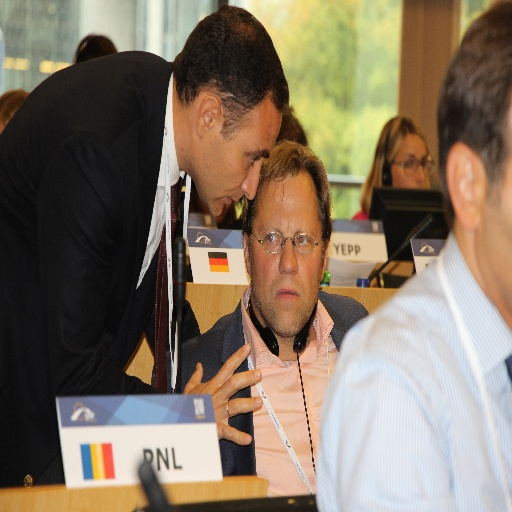hand: (198, 352, 265, 451)
